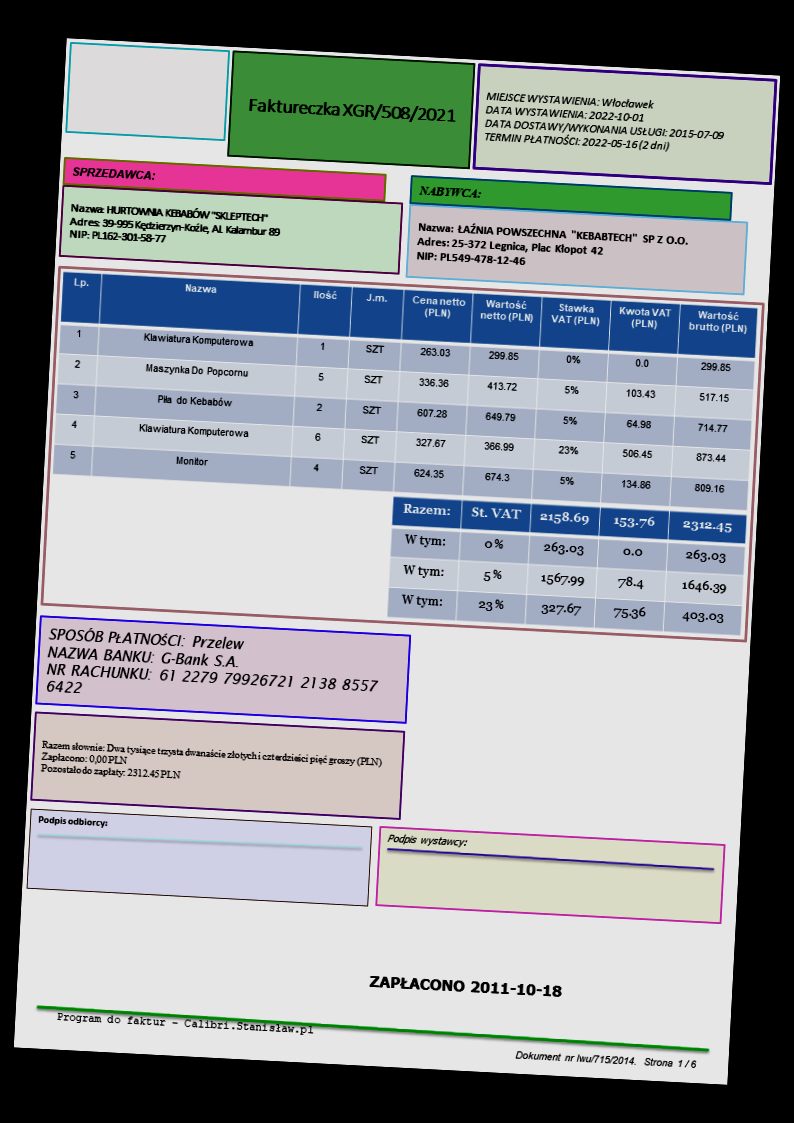Table: (50, 269, 757, 511), (384, 493, 746, 638)
TextBox: (42, 622, 386, 717), (35, 736, 388, 797), (412, 216, 694, 281), (478, 87, 729, 160), (63, 199, 287, 254), (53, 1007, 317, 1039), (242, 92, 457, 129), (362, 968, 567, 1003), (510, 1044, 701, 1074), (383, 827, 469, 855), (66, 162, 157, 185), (31, 811, 111, 833), (414, 180, 482, 201)
